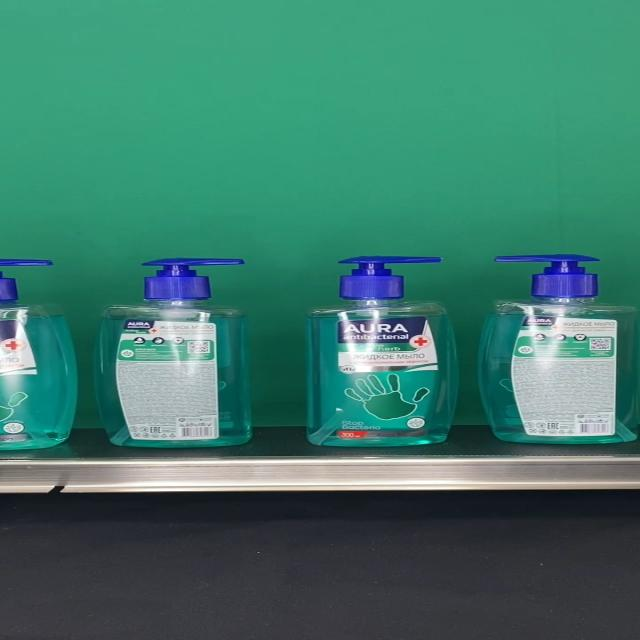Bottle: (476, 254, 640, 444), (97, 258, 253, 448), (307, 257, 458, 446)
Cap: (494, 255, 600, 297), (338, 257, 442, 299), (143, 258, 246, 300)
